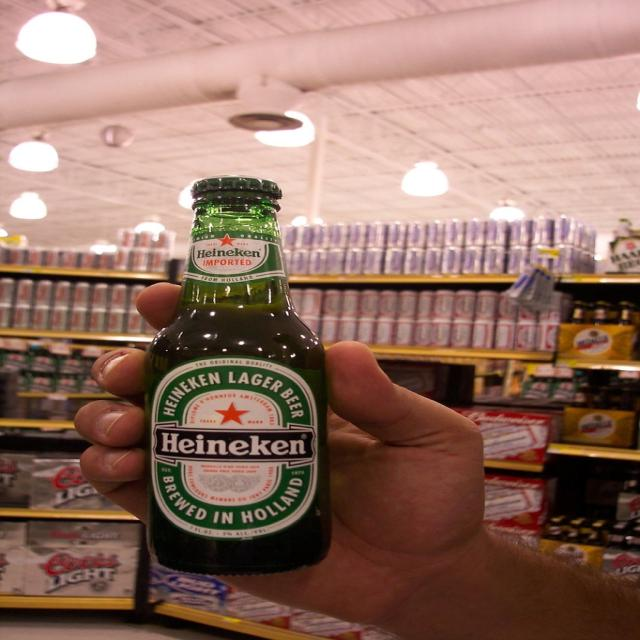heineken: (153, 359, 316, 539)
